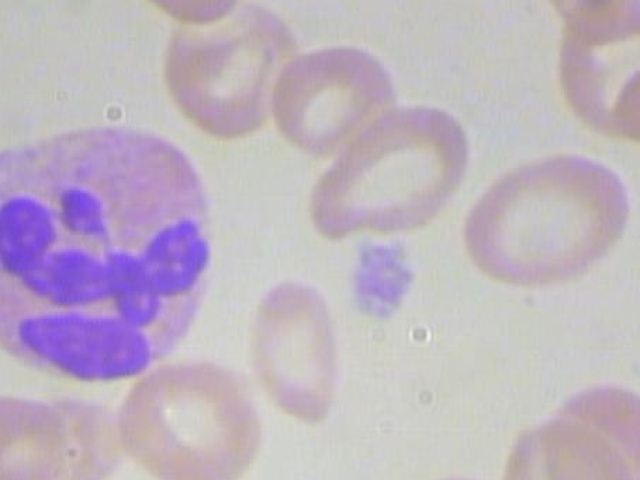Platelets: (339, 239, 428, 332)
RBC: (458, 151, 639, 297), (294, 95, 475, 241), (297, 98, 477, 244), (149, 0, 330, 139), (115, 346, 266, 480), (246, 273, 348, 422), (274, 43, 394, 159), (0, 390, 79, 480), (509, 0, 640, 40), (117, 0, 268, 28), (602, 52, 640, 153)
WBC: (0, 106, 226, 392)
